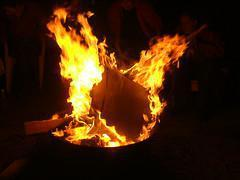fire: (31, 9, 193, 148)
